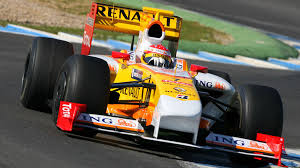FormulaOneCar: (19, 1, 290, 167)
